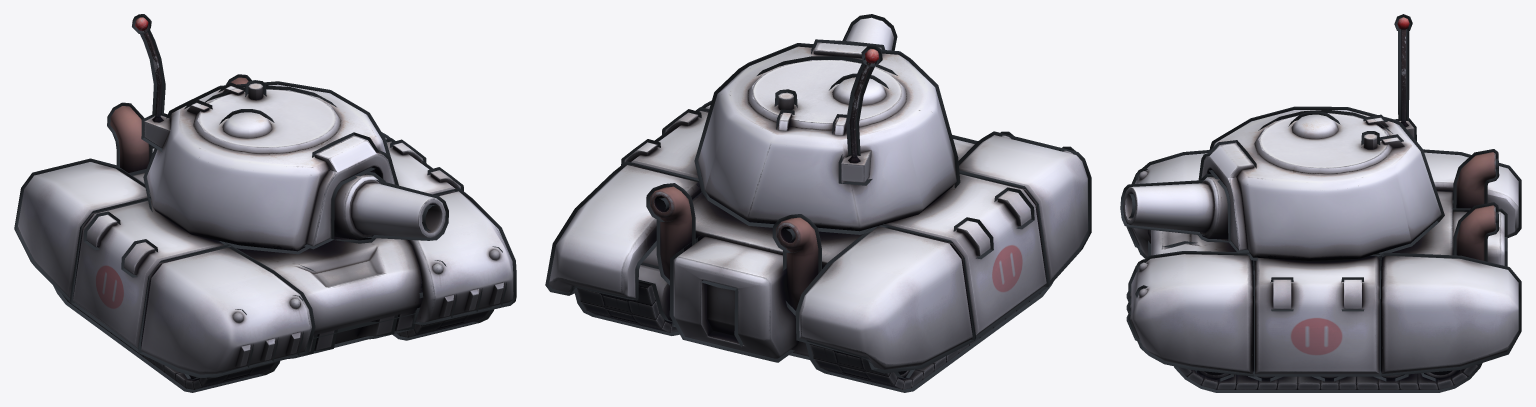
Rendered from mother_3_-_pork_tank.glb.
3 views of the same model, side by side, from view 1: azimuth 30°, elevation 25°; view 2: azimuth 150°, elevation 25°; view 3: azimuth 270°, elevation 25° (orthographic). The views are drawn at different scales.
Visible parts, largest first — view 1: Object001_Material #8_0, Object001_Material #3_0, Object002_Material #8_0, Object002_Material #3_0; view 2: Object001_Material #8_0, Object001_Material #3_0, Object002_Material #8_0, Object002_Material #3_0; view 3: Object001_Material #8_0, Object001_Material #3_0, Object002_Material #8_0, Object002_Material #3_0.
Boxes of the visible parts, bbox=[...] form: Object001_Material #8_0: bbox=[17, 17, 513, 374]; Object001_Material #3_0: bbox=[14, 14, 516, 377]; Object002_Material #8_0: bbox=[62, 294, 489, 389]; Object002_Material #3_0: bbox=[53, 285, 493, 392]; Object001_Material #8_0: bbox=[549, 17, 1087, 369]; Object001_Material #3_0: bbox=[545, 14, 1091, 373]; Object002_Material #8_0: bbox=[577, 246, 1041, 389]; Object002_Material #3_0: bbox=[574, 262, 1053, 392]; Object001_Material #8_0: bbox=[1123, 17, 1518, 374]; Object001_Material #3_0: bbox=[1120, 14, 1521, 376]; Object002_Material #8_0: bbox=[1178, 364, 1478, 389]; Object002_Material #3_0: bbox=[1174, 363, 1482, 392].
Size of the model in its own units: 172 by 138 by 184.
Materials: 2 (1 with a texture image).
